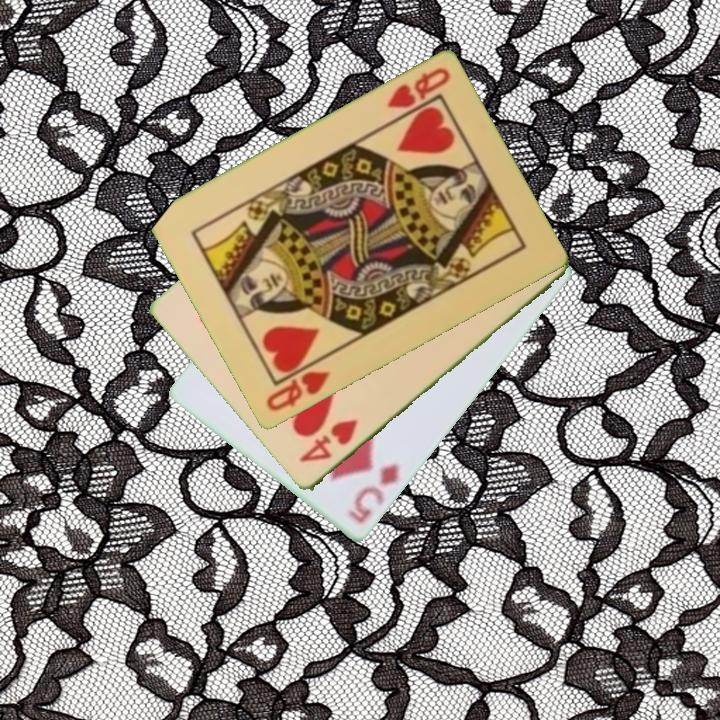4h: (296, 416, 362, 466)
5d: (343, 460, 403, 528)
Qh: (262, 368, 334, 415), (383, 64, 453, 112)
